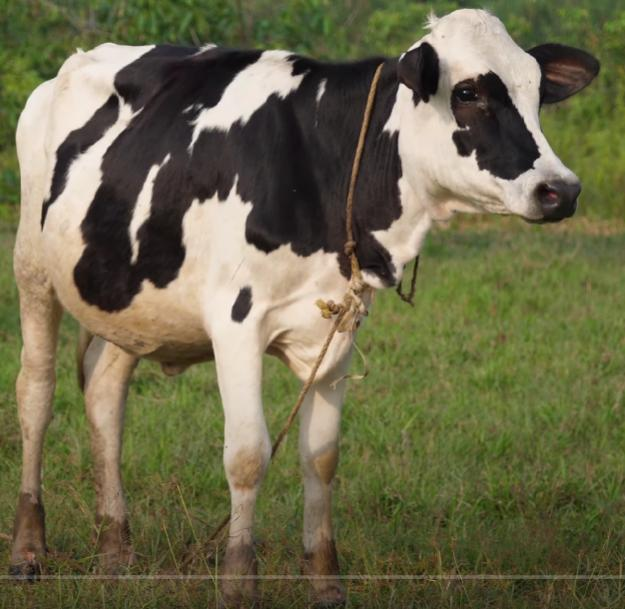cow: (14, 3, 603, 609)
